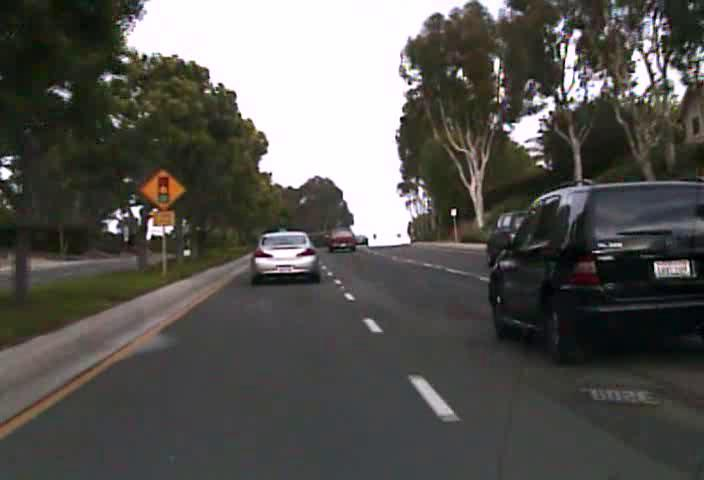signalAhead: (136, 167, 187, 211)
